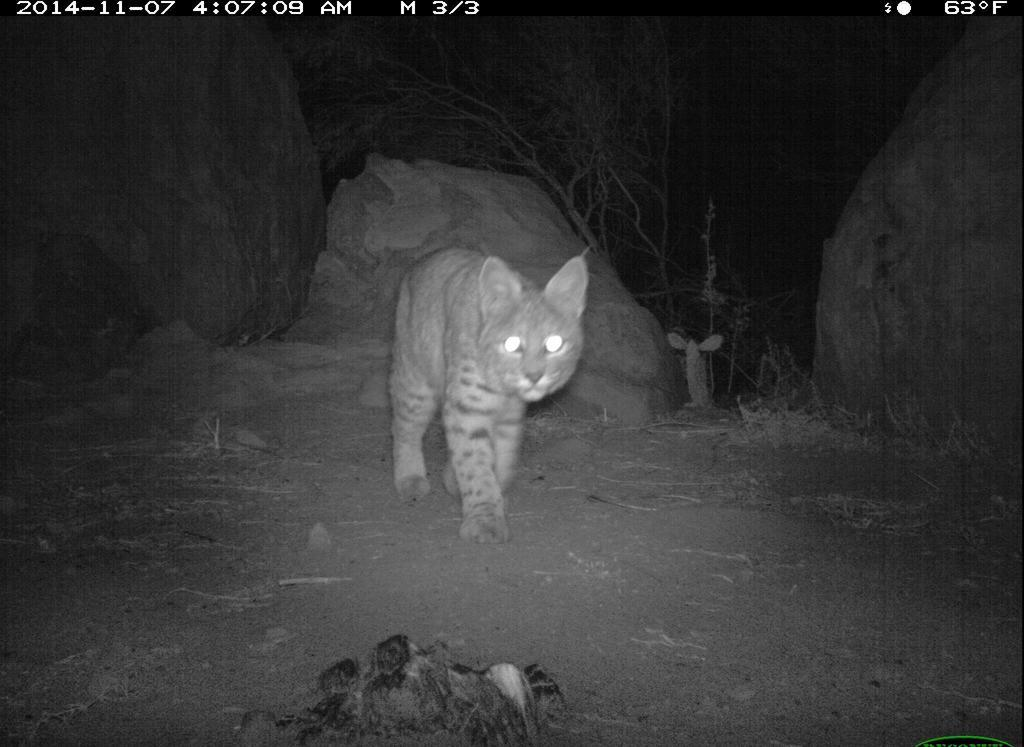bobcat: (382, 239, 598, 550)
